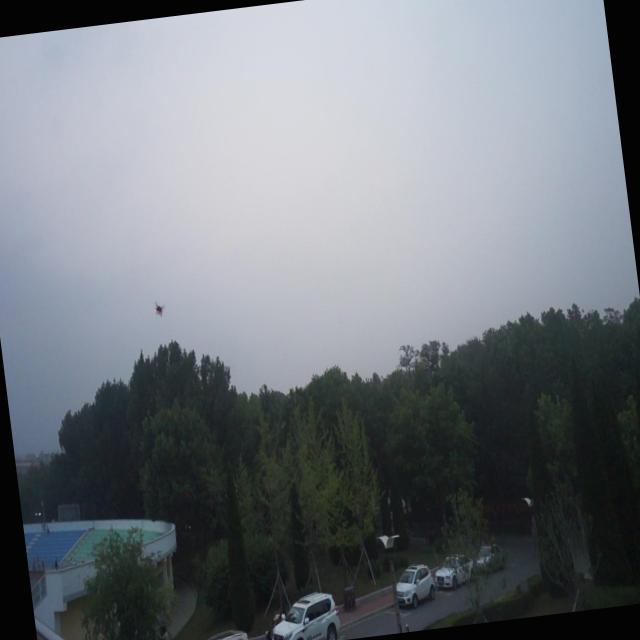drone: (151, 299, 167, 319)
